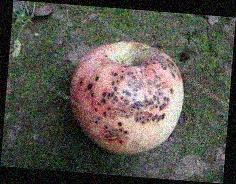rotten apple: (62, 42, 186, 158)
